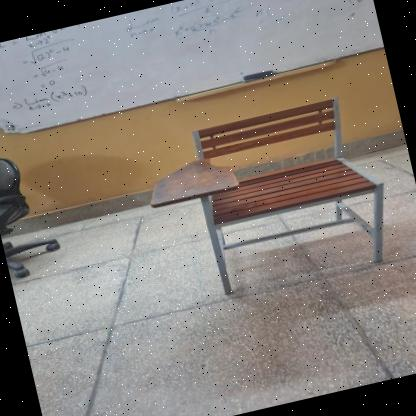chair: (132, 82, 411, 320)
